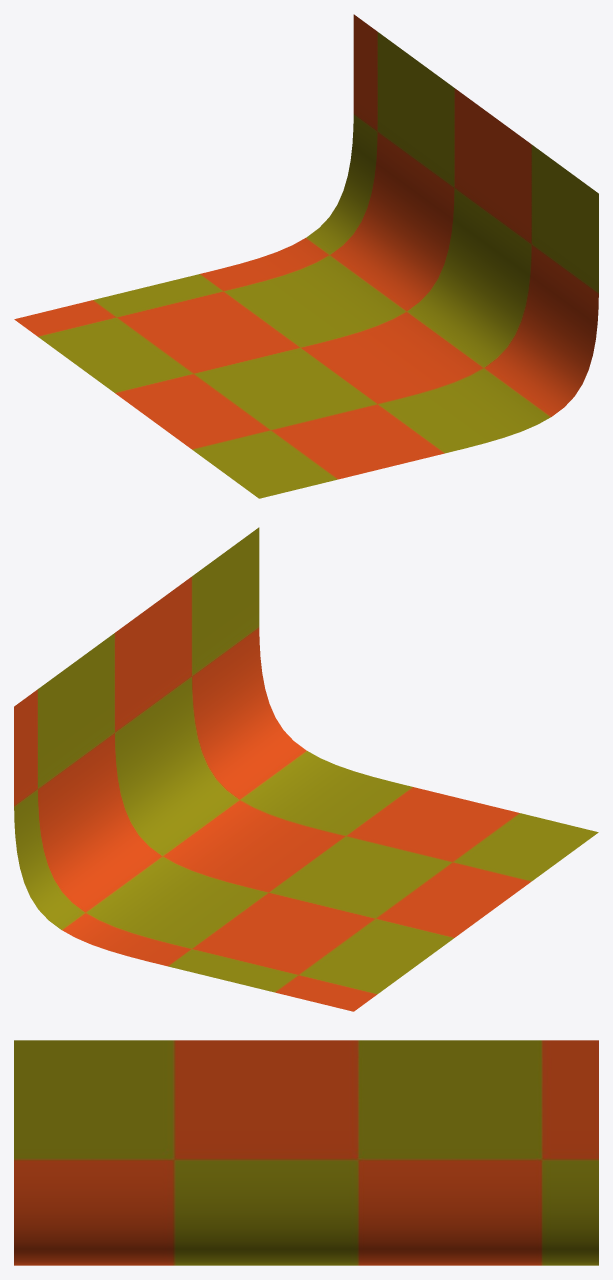
The model's file is Room.glb.
The picture shows the model from 3 angles, top to bottom: view 1: azimuth 30°, elevation 25°; view 2: azimuth 150°, elevation 25°; view 3: azimuth 270°, elevation 25°; orthographic projection. The views are drawn at different scales.
Visible parts, largest first — view 1: Plane; view 2: Plane; view 3: Plane.
Boxes of the visible parts, bbox=[...] form: Plane: bbox=[14, 14, 598, 498]; Plane: bbox=[14, 527, 598, 1011]; Plane: bbox=[14, 1040, 598, 1265].
Size of the model in its own units: 8 by 5 by 10.
1 material, 1 textured.
